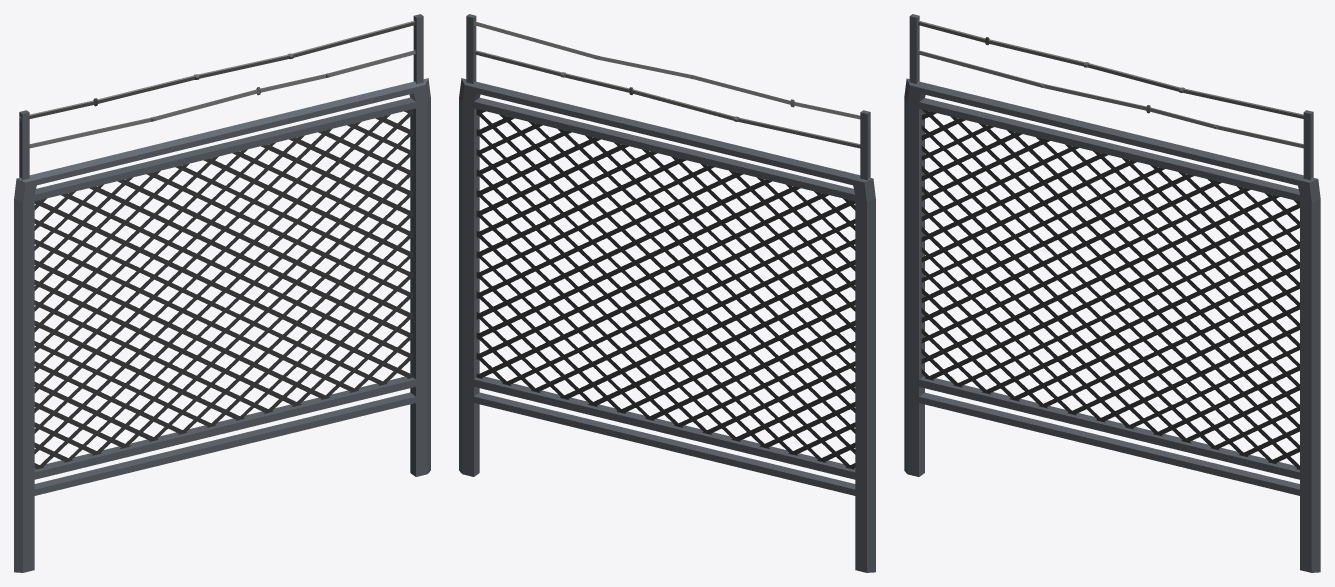
Rendered from SM_Prop_Fence_01.glb.
The picture shows the model from 3 angles, left to right: view 1: azimuth 30°, elevation 25°; view 2: azimuth 150°, elevation 25°; view 3: azimuth 330°, elevation 25°; orthographic projection.
Visible parts, largest first — view 1: SM_Prop_Fence_01; view 2: SM_Prop_Fence_01; view 3: SM_Prop_Fence_01.
Part boxes in pixels (bbox=[...]): SM_Prop_Fence_01: bbox=[14, 14, 430, 572]; SM_Prop_Fence_01: bbox=[459, 14, 875, 572]; SM_Prop_Fence_01: bbox=[904, 14, 1320, 572].
Size of the model in its own units: 3.03 by 3.19 by 0.0724.
2 materials, 2 textured.
